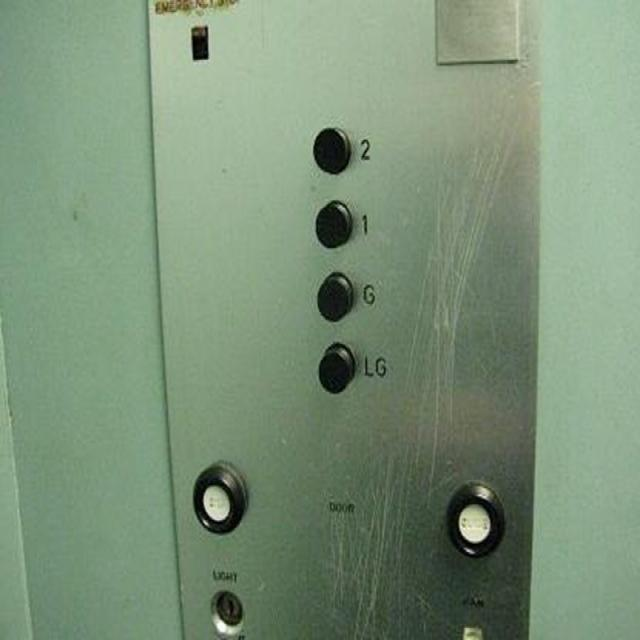empty: (308, 119, 353, 180), (313, 334, 357, 394), (315, 265, 355, 327), (310, 197, 354, 252)
keyhole: (206, 585, 248, 636)
text_blur: (444, 484, 506, 557), (192, 460, 250, 535)
